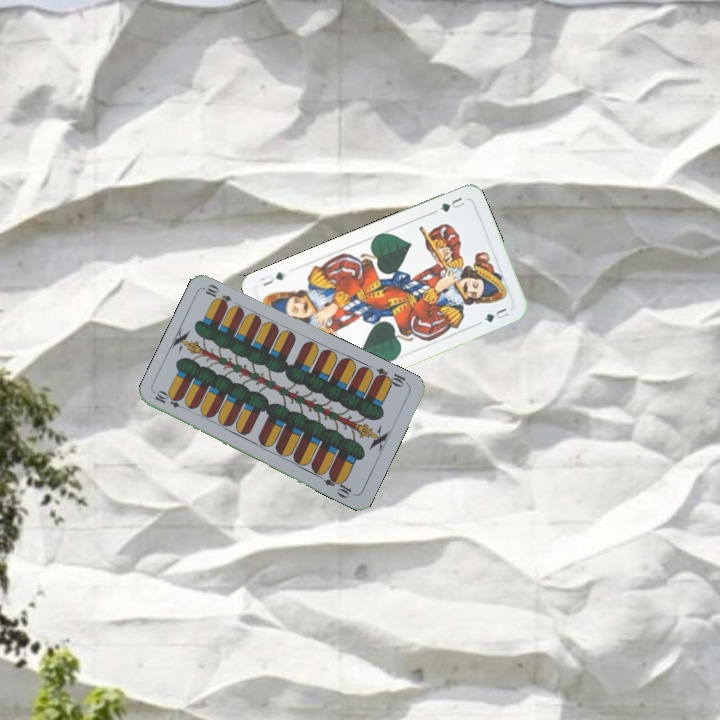E10: (371, 364, 411, 390), (151, 388, 190, 412)
GU: (435, 193, 467, 215)
